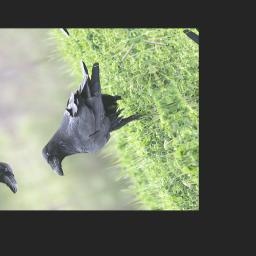Crow: (6, 49, 161, 180)
